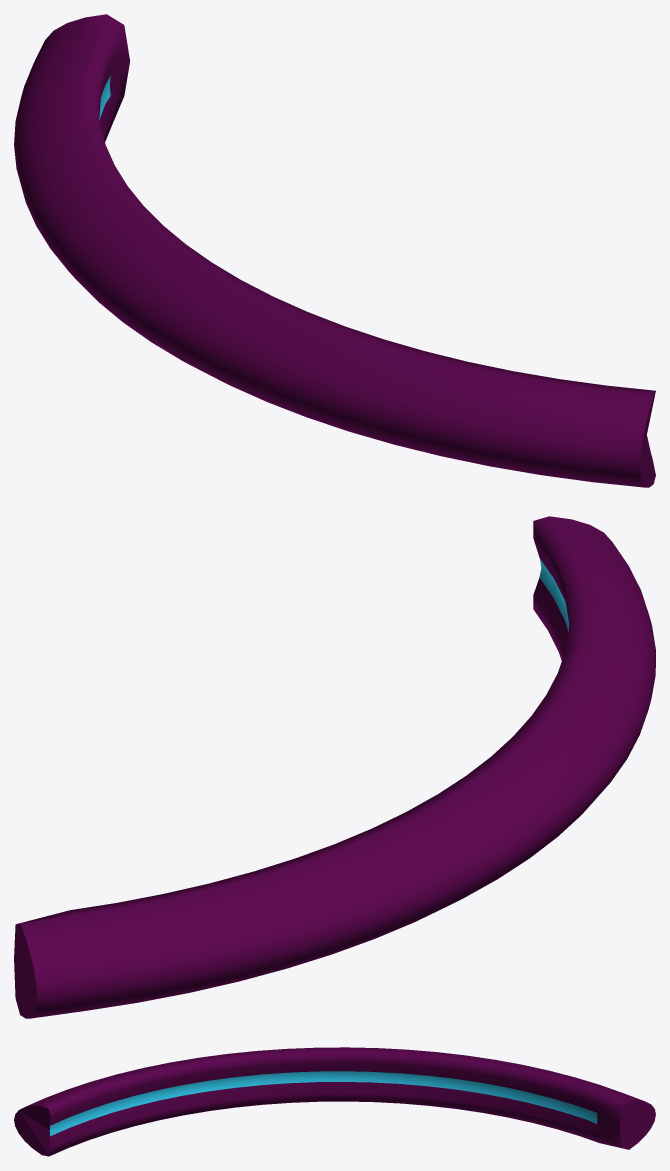
File: Single Arch Support.FBX
3 renders of one model, top to bottom at view 1: azimuth 30°, elevation 25°; view 2: azimuth 150°, elevation 25°; view 3: azimuth 270°, elevation 25°, orthographic. The views are drawn at different scales.
Visible parts, largest first — view 1: Torus013; view 2: Torus013; view 3: Torus013.
Boxes of the visible parts, bbox=[...] form: Torus013: bbox=[14, 14, 655, 487]; Torus013: bbox=[14, 516, 655, 1018]; Torus013: bbox=[14, 1047, 655, 1156].
Bounding box in the file's own units: 7.43 × 2.29 × 27.02.
